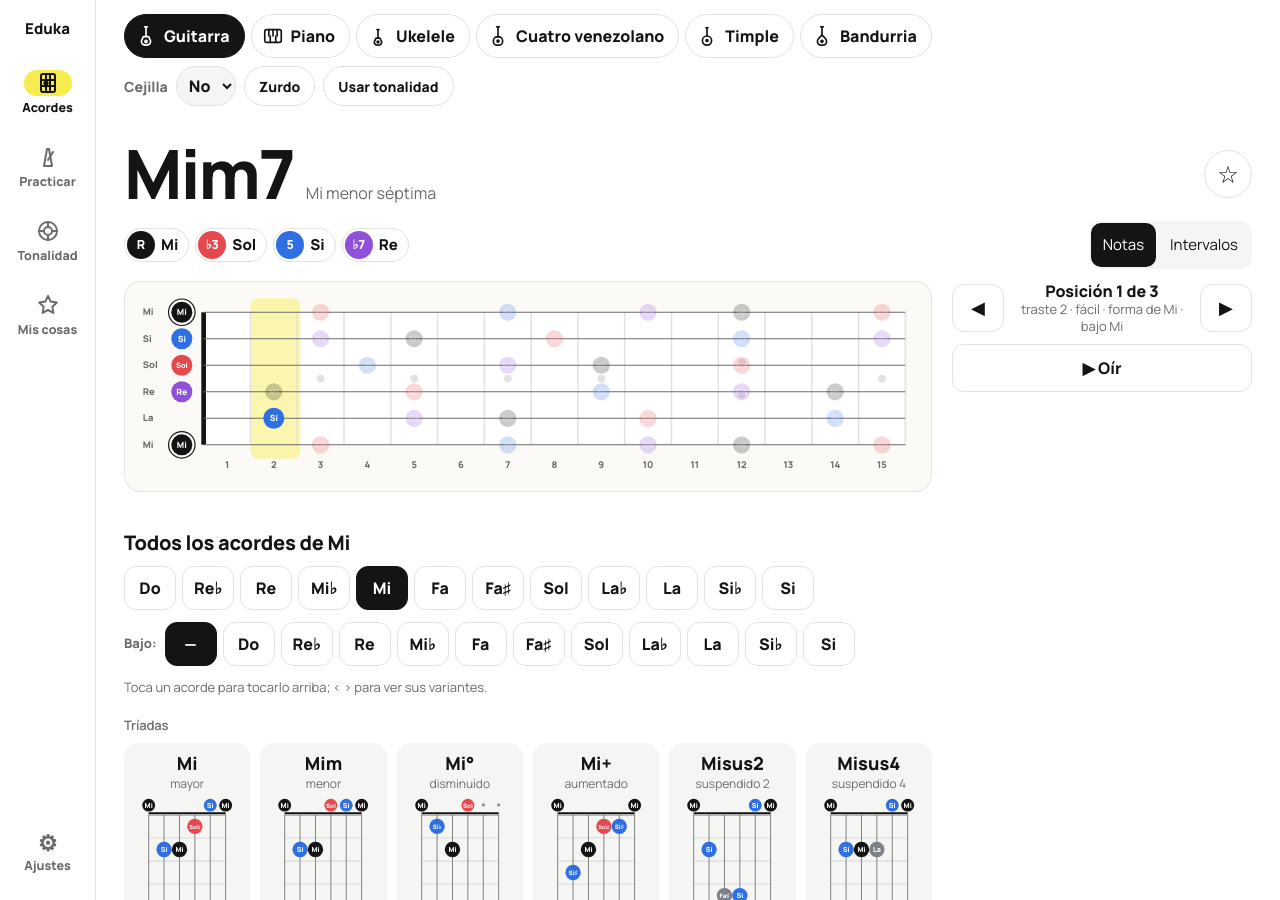
Ajustes › solo contiene idioma, notación y tema
The width and height of the screenshot is (1280, 900).
Click the button "⚙ Ajustes" at (48, 852), box [8,818,87,886]
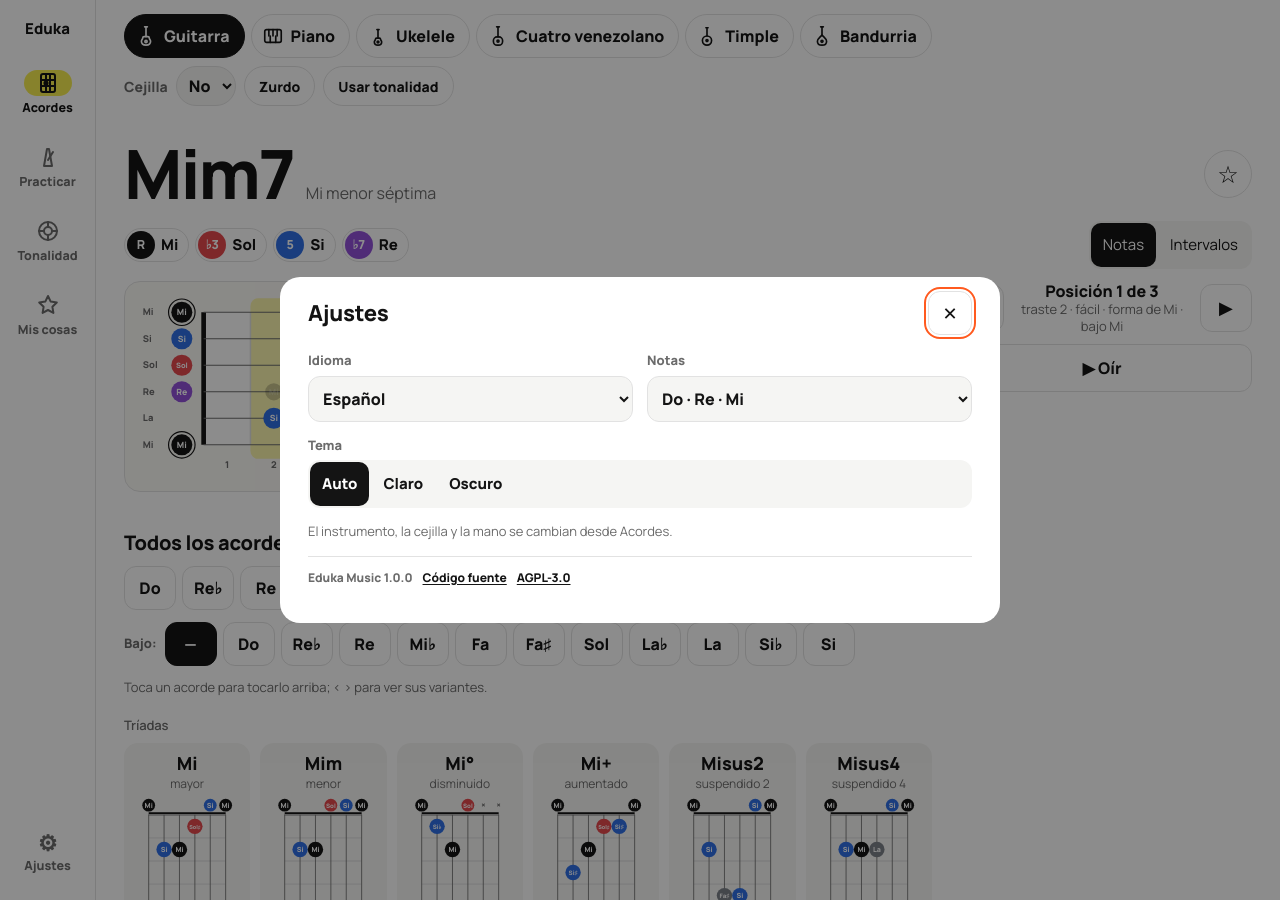
Expected: the dropdown labelled "Idioma" is shown, [308,376,633,422]
Expected: the dropdown labelled "Notas" is shown, [647,376,972,422]
